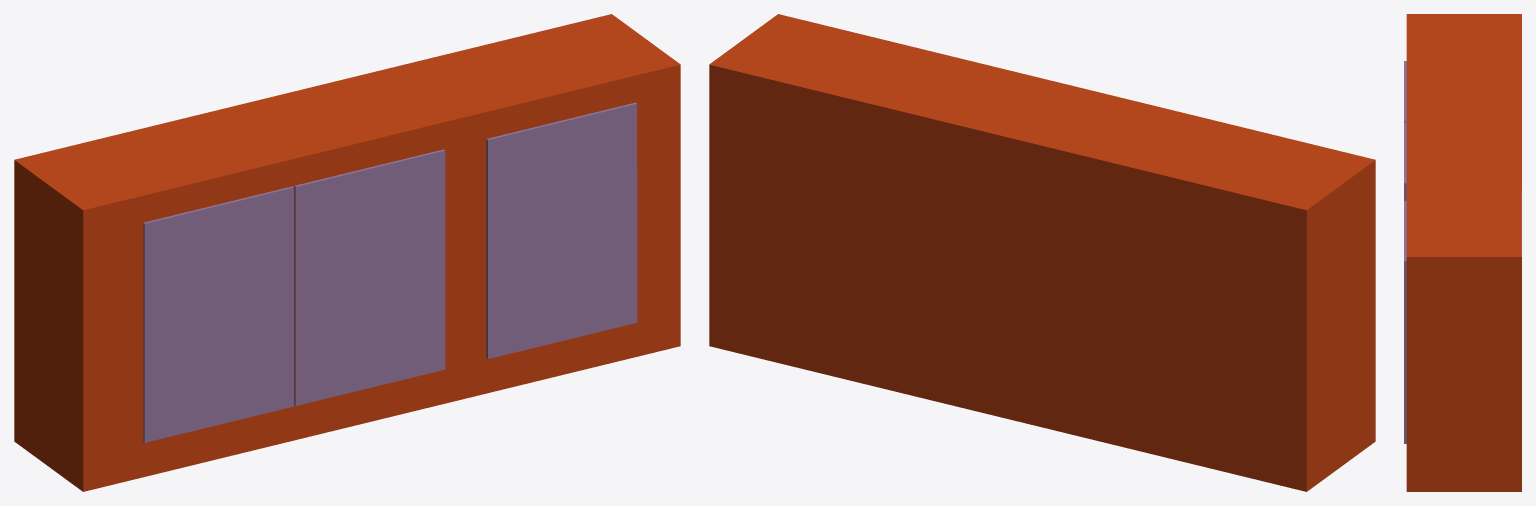
The model's file is derArriba.obj.
The picture shows the model from 3 angles, left to right: view 1: azimuth 30°, elevation 25°; view 2: azimuth 150°, elevation 25°; view 3: azimuth 270°, elevation 25°; orthographic projection. The views are drawn at different scales.
Parts seen in each view (by area): view 1: Cube.087_Cube.091; view 2: Cube.087_Cube.091; view 3: Cube.087_Cube.091.
Part boxes in pixels (x1,y1,x2,y2): Cube.087_Cube.091: [14, 14, 680, 491]; Cube.087_Cube.091: [709, 14, 1375, 491]; Cube.087_Cube.091: [1404, 14, 1521, 491].
Bounding box in the file's own units: 18.59 × 8.37 × 3.81.
Materials: 1 (1 with a texture image).
